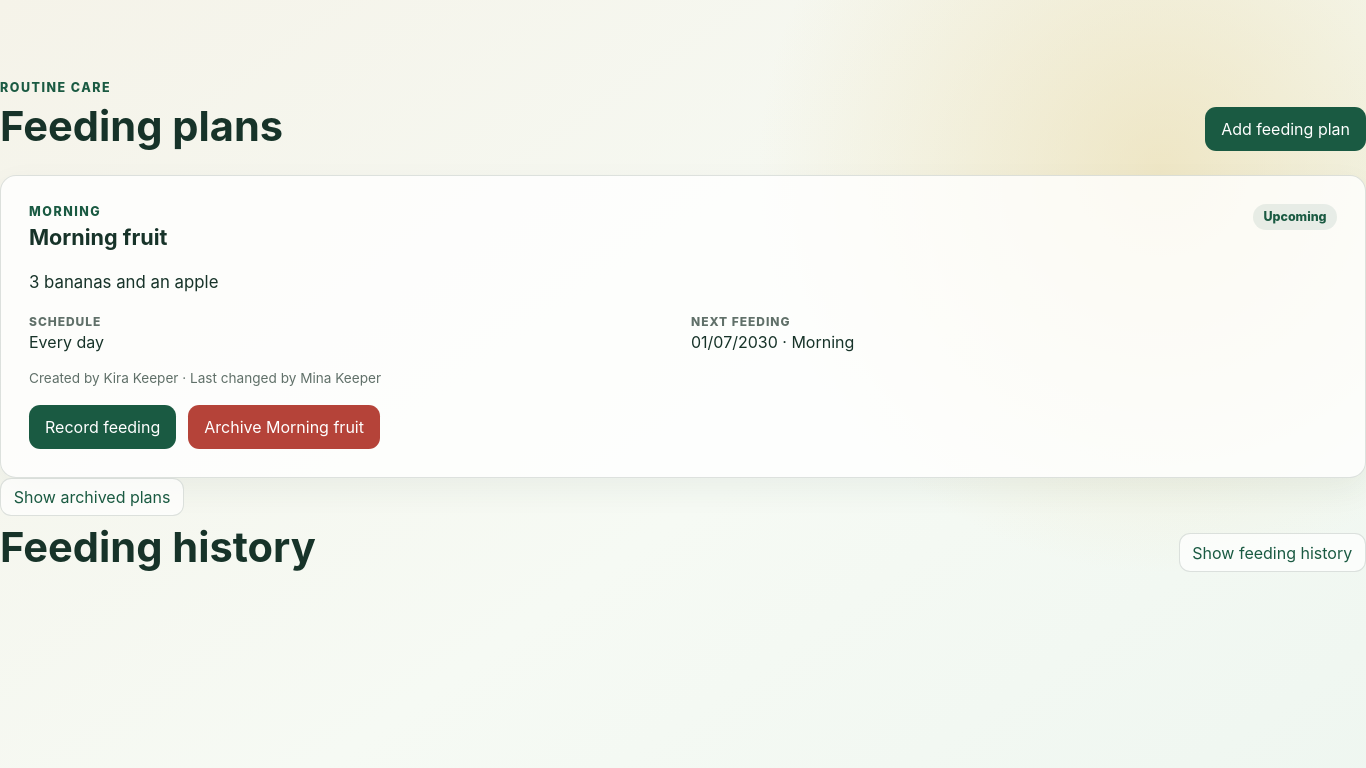
Test: FeedingPlansSection › shows archived plans in a separate history section
Expected: the heading "Morning fruit" is shown, [29, 224, 167, 250]
Click the button "Show archived plans": click(92, 497) [0, 478, 184, 516]
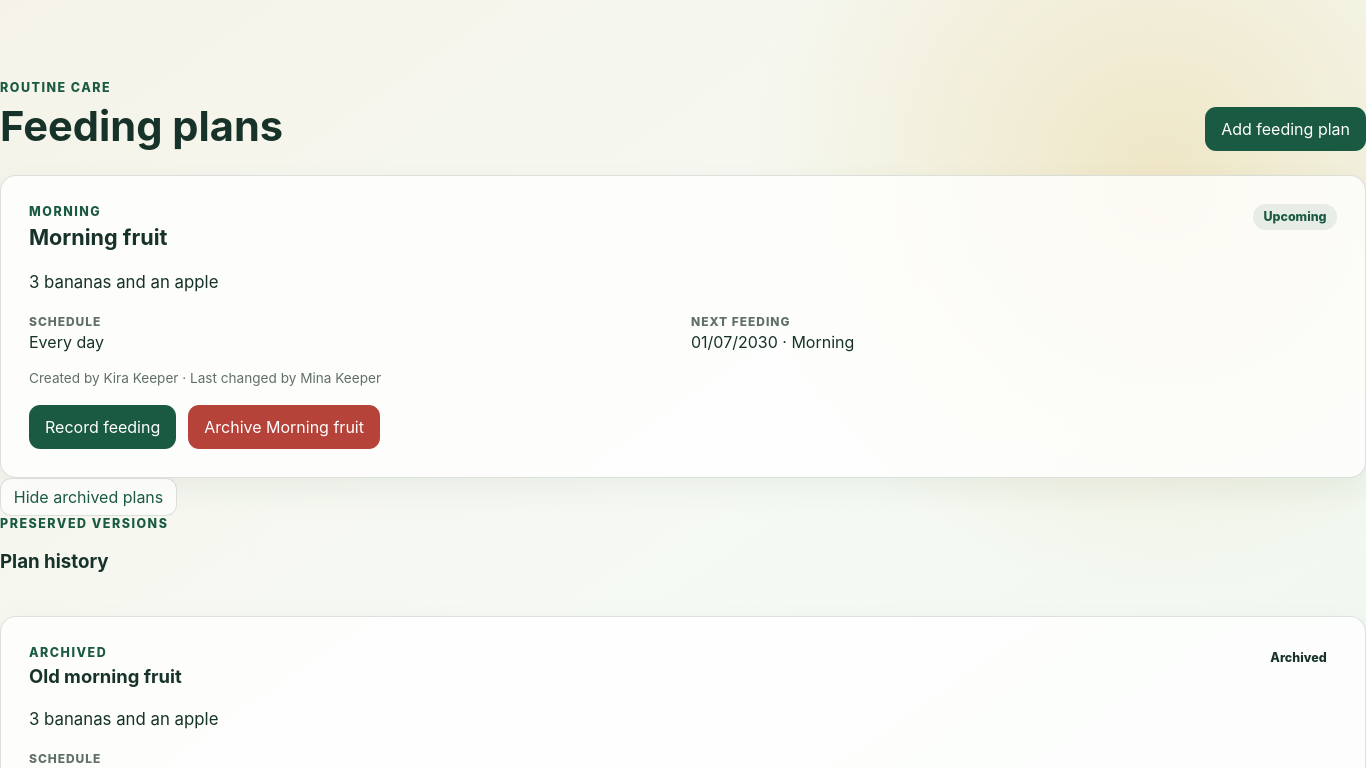
Now the heading "Plan history" is shown, box [0, 550, 109, 573]
Now the heading "Old morning fruit" is shown, box [29, 665, 182, 687]
Click the button "Hide archived plans": click(89, 497) [0, 478, 177, 516]
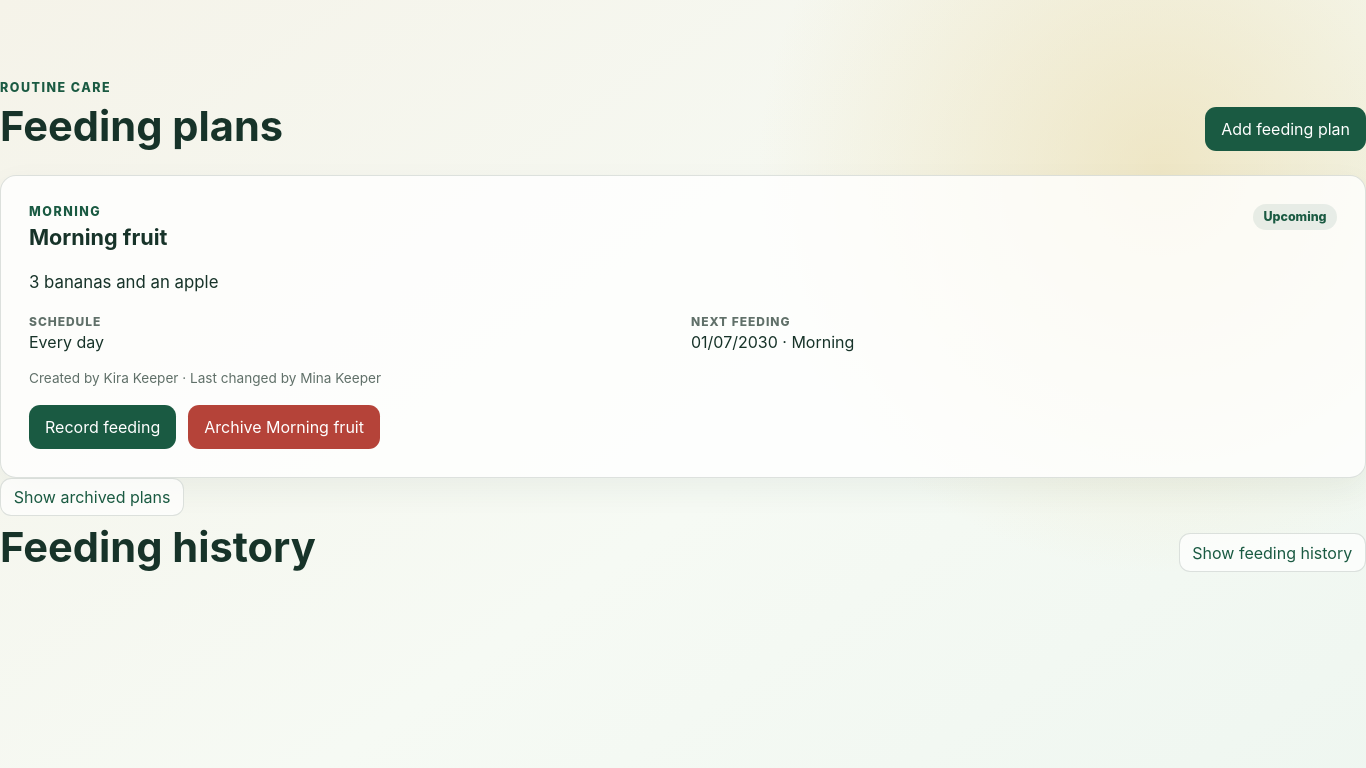
Now the heading "Plan history" is gone
